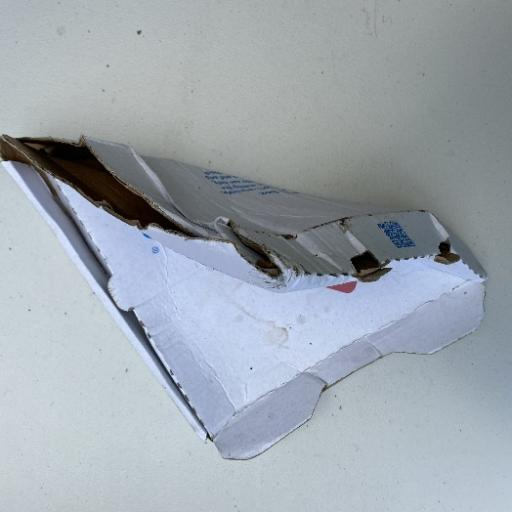Cardboard: (2, 131, 489, 461)
